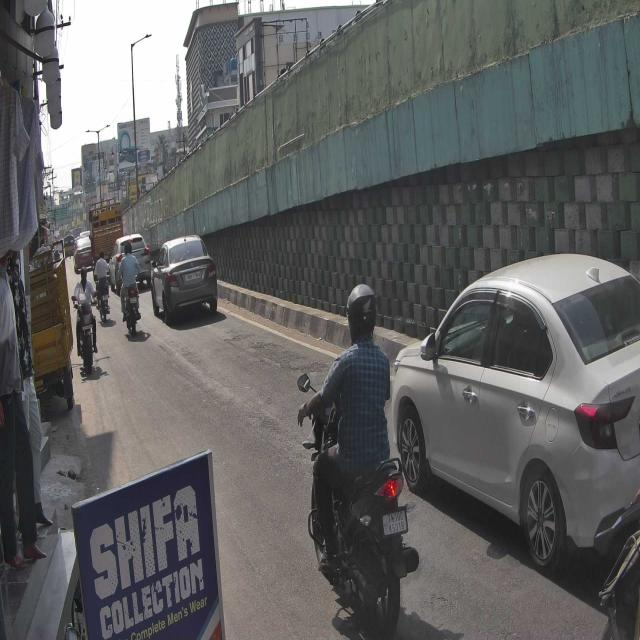single_rider: (296, 280, 424, 640)
